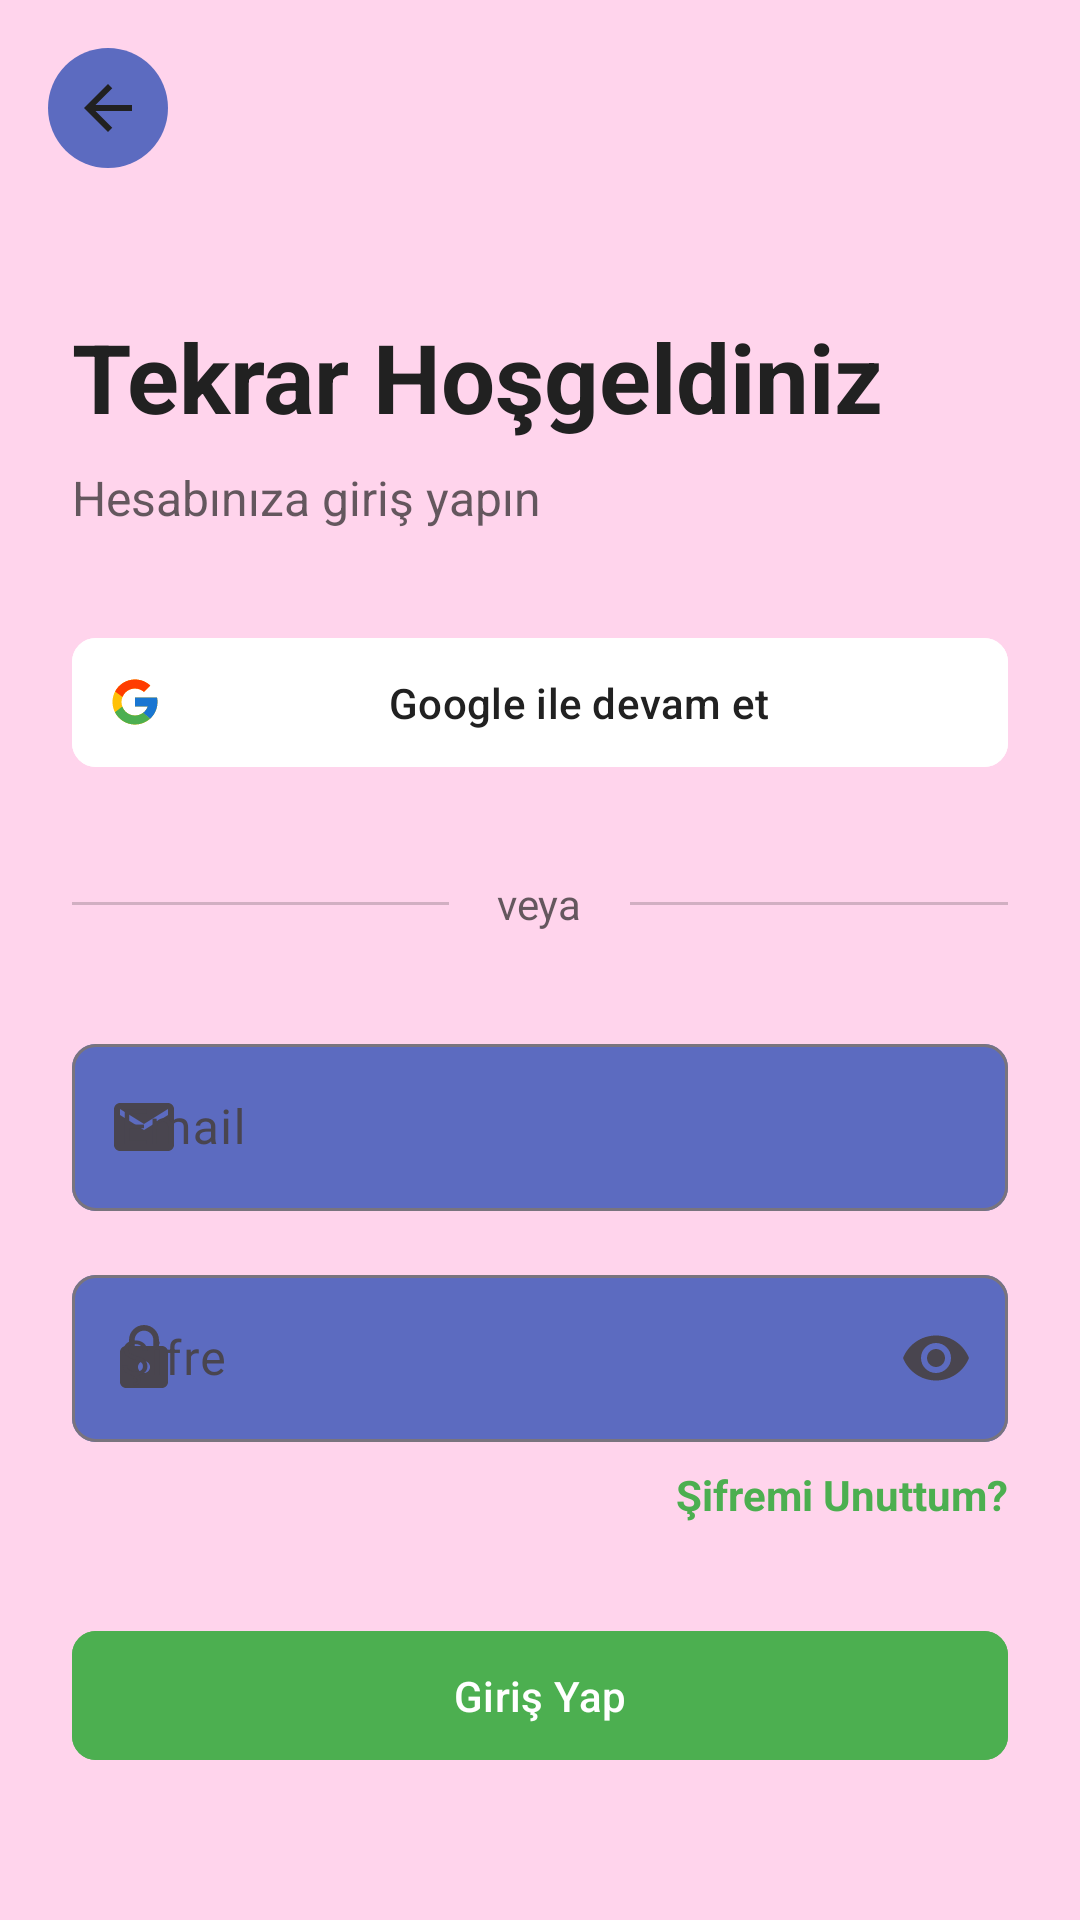

Point at icon controls on the screen. Image size 1080px×1920px, points as point (x, y).
back: point (108, 108)
